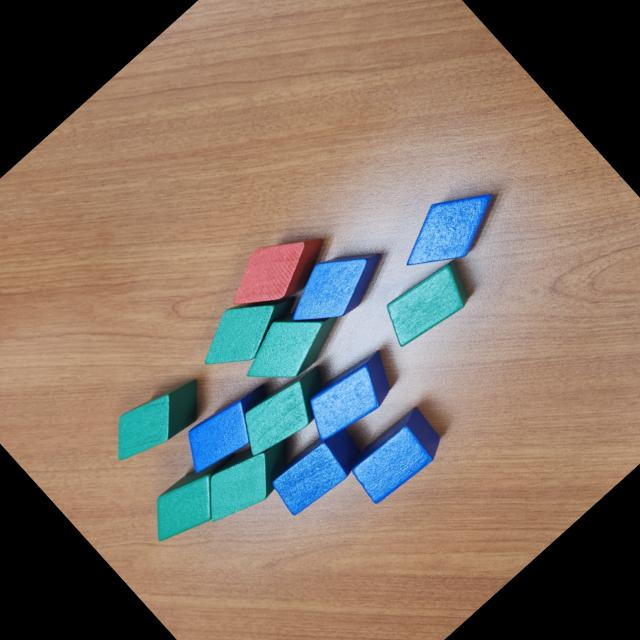blue: (388, 168, 512, 288), (274, 226, 396, 344), (290, 341, 408, 454), (170, 372, 287, 484), (341, 402, 450, 508), (299, 286, 408, 390), (263, 418, 370, 520), (272, 412, 330, 468)
green: (184, 266, 308, 386), (96, 360, 216, 476), (136, 440, 256, 556), (186, 422, 306, 538), (231, 286, 350, 402), (226, 354, 343, 466), (372, 249, 483, 356)
red: (215, 211, 339, 331)
